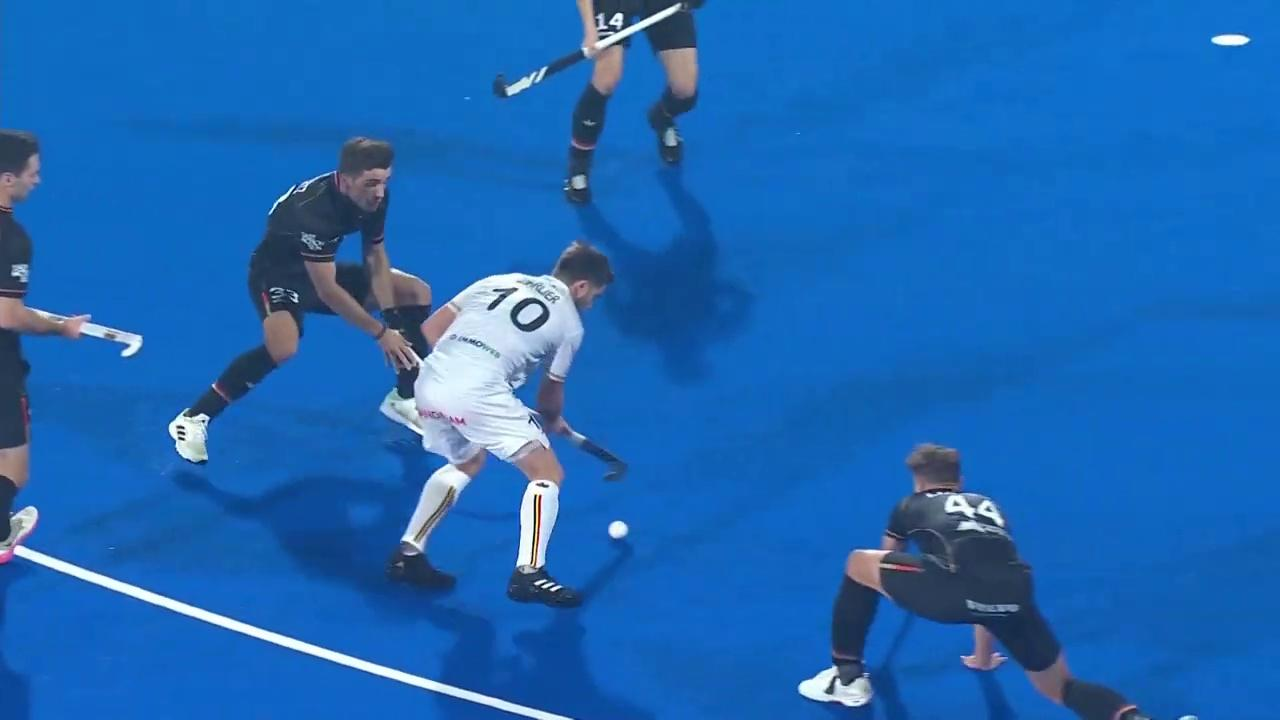ball: (592, 508, 641, 550)
